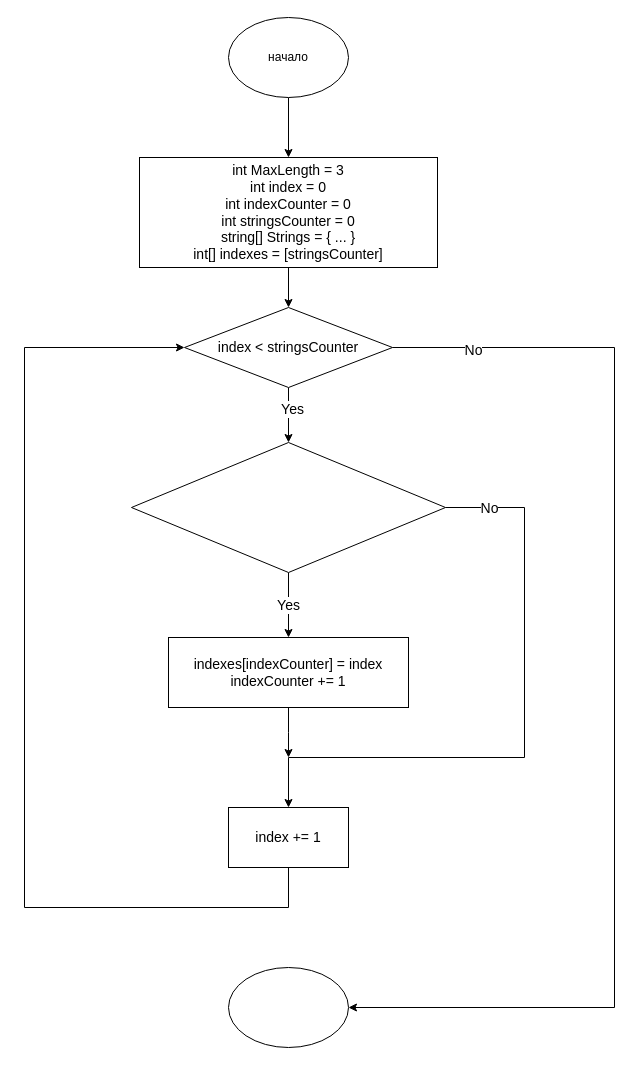
Some shapes in this 640 by 1065 pixel diagram are drawn without their labels. The shapes that lost their labels are listed below. From the top down, each one's centre as x and y in pixels, then its label:
the point at 288,507: ДЛИНА(Strings[index]) ≤ MaxLength
the point at 288,1007: конец
